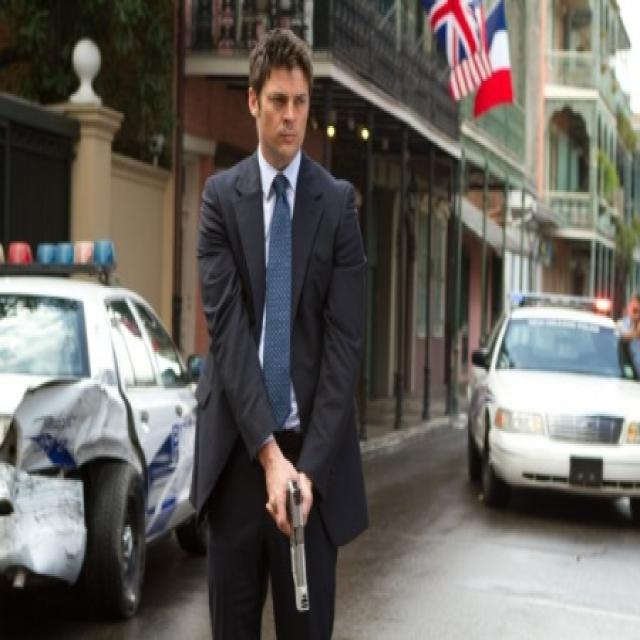weapons: (264, 441, 334, 625)
